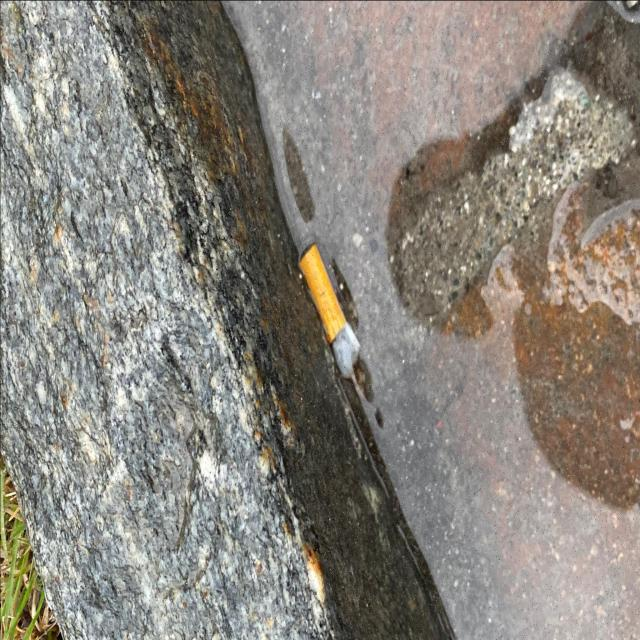other waste: (298, 240, 361, 380)
